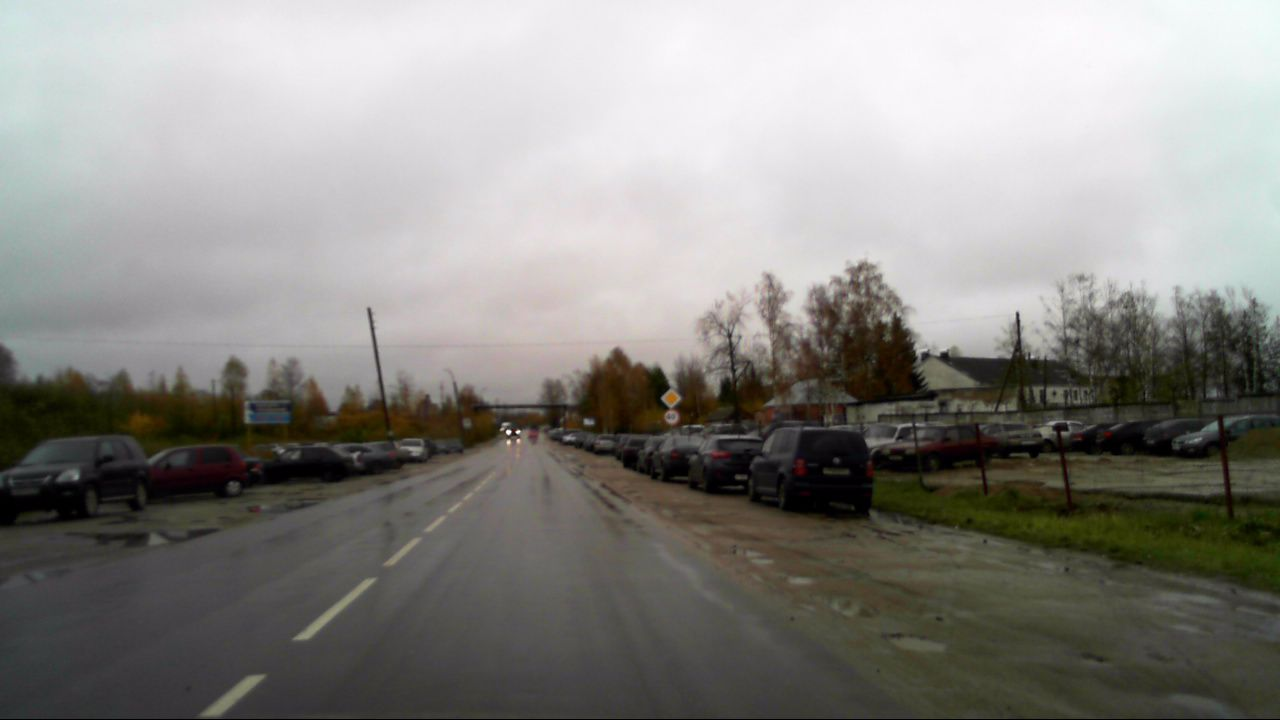speed_warning_40: (661, 408, 681, 426)
